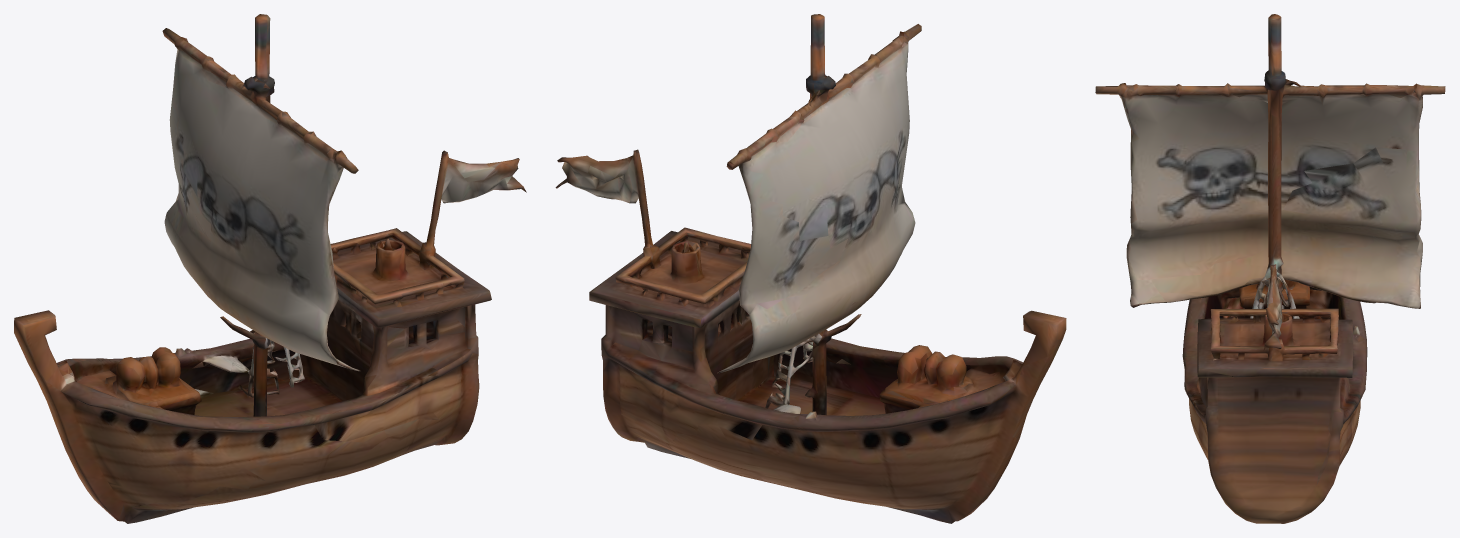
Rendered from pirat_ship.fbx.
3 views of the same model, side by side, from view 1: azimuth 30°, elevation 25°; view 2: azimuth 150°, elevation 25°; view 3: azimuth 270°, elevation 25° (orthographic). The views are drawn at different scales.
Parts seen in each view (by area): view 1: Mesh_0; view 2: Mesh_0; view 3: Mesh_0.
Boxes of the visible parts, x1,y1,x2,y2 form: Mesh_0: (14,14,526,523); Mesh_0: (555,14,1066,523); Mesh_0: (1095,14,1445,523).
Bounding box in the file's own units: 200 × 179 × 130.
1 material, 1 textured.
